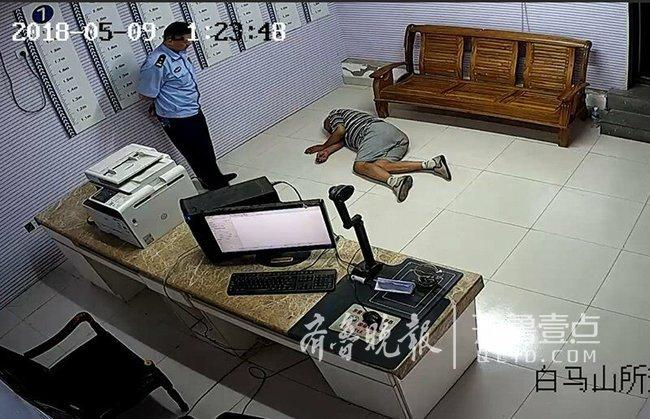down: (298, 100, 449, 201)
up: (137, 21, 259, 200)
